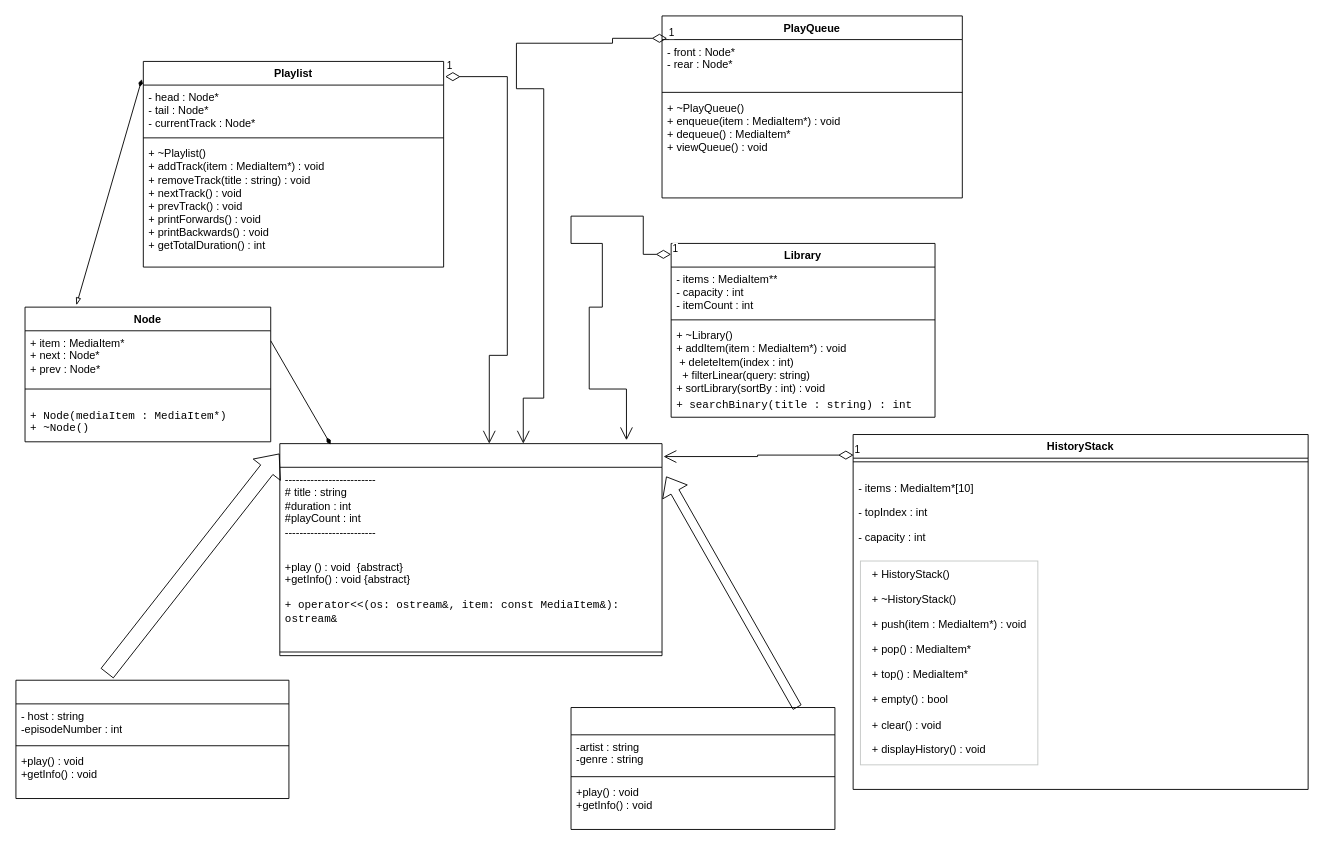
Some shapes in this 1324 by 848 pixel diagram are drawn without their labels. Here are the shapes that lost their labels. From the top down, the box of each, then its label:
(279, 443, 662, 656): <<abstract>> MediaItem
(15, 679, 289, 799): Podcast
(570, 707, 835, 829): Song
